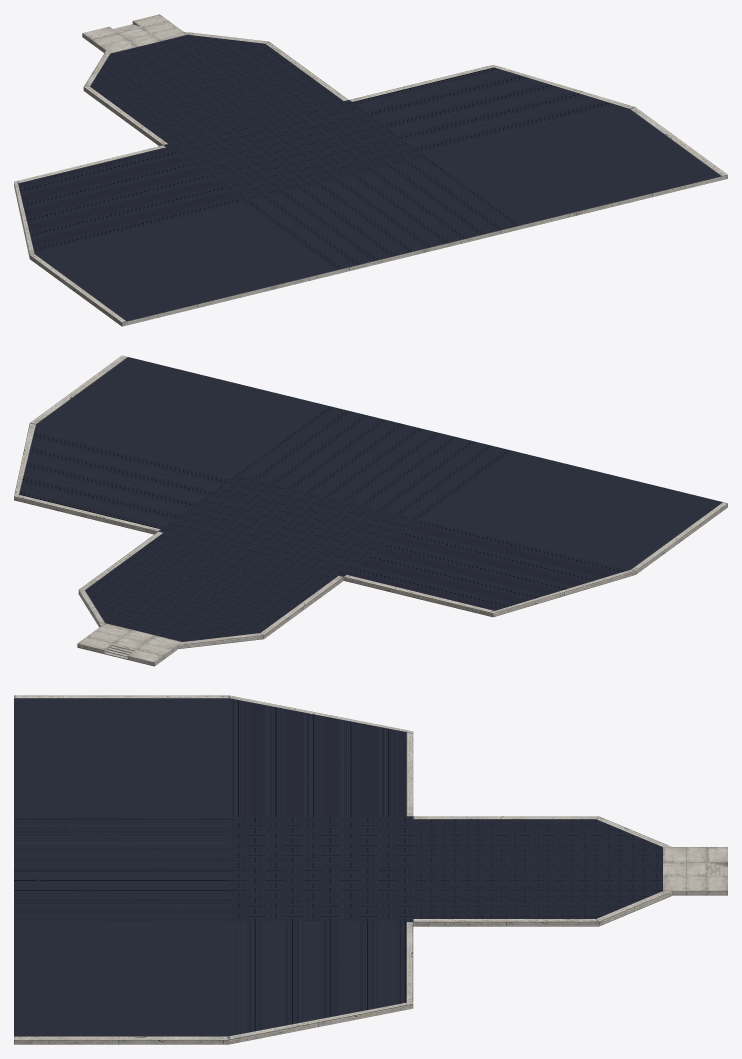
File: SM_SYD_Foundation.fbx
3 renders of one model, top to bottom at view 1: azimuth 30°, elevation 25°; view 2: azimuth 150°, elevation 25°; view 3: azimuth 270°, elevation 25°, orthographic. The views are drawn at different scales.
Visible parts, largest first — view 1: SM_SYD_Foundation; view 2: SM_SYD_Foundation; view 3: SM_SYD_Foundation.
Part boxes in pixels (x1=…): SM_SYD_Foundation: x1=14, y1=14, x2=727, y2=326; SM_SYD_Foundation: x1=14, y1=355, x2=727, y2=666; SM_SYD_Foundation: x1=14, y1=695, x2=727, y2=1044.
Size of the model in its own units: 11760 by 75 by 10300.
